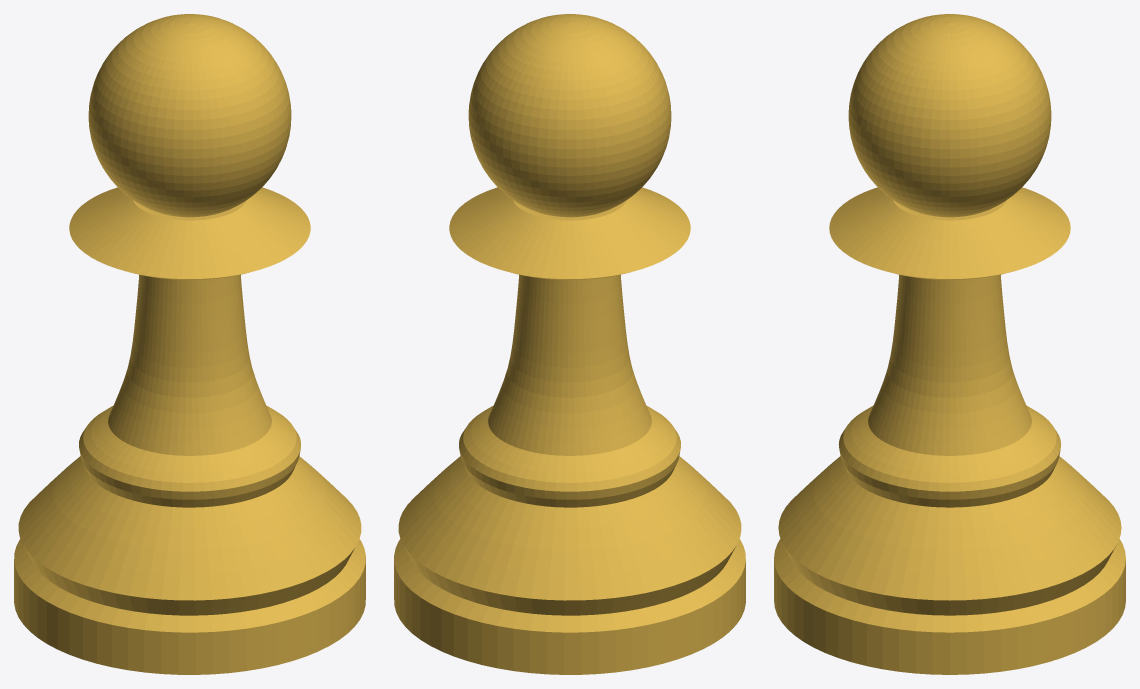
The model's file is gold_pawn.fbx.
3 views of the same model, side by side, from view 1: azimuth 30°, elevation 25°; view 2: azimuth 150°, elevation 25°; view 3: azimuth 270°, elevation 25° (orthographic).
Visible parts, largest first — view 1: Cylinder; view 2: Cylinder; view 3: Cylinder.
Boxes of the visible parts, x1,y1,x2,y2 form: Cylinder: [14, 14, 365, 674]; Cylinder: [394, 14, 745, 674]; Cylinder: [774, 14, 1125, 674].
Size of the model in its own units: 4.44 by 8.05 by 4.44.
